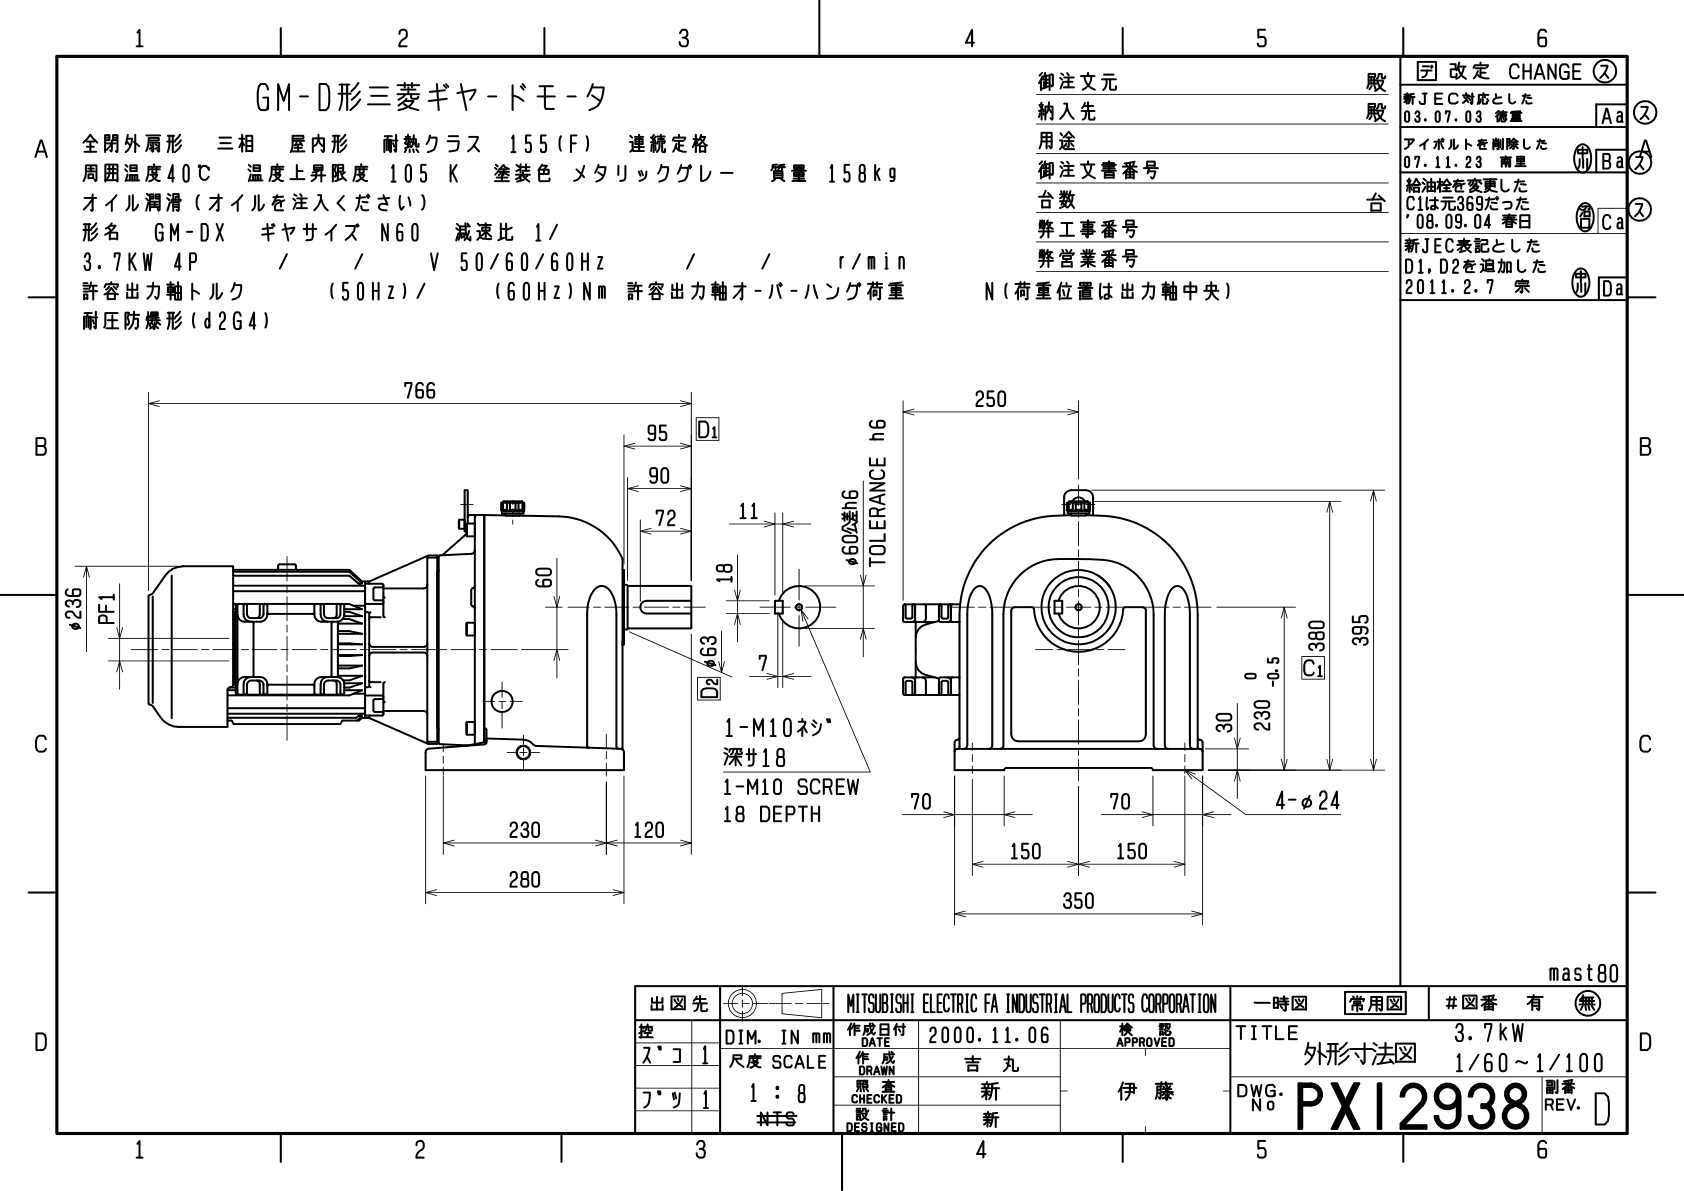GM_D_耐圧屋内_三相_脚: (1, 1, 1678, 1186)
